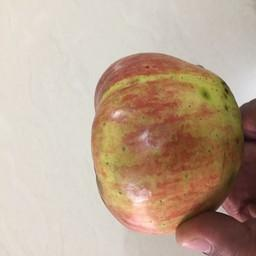Bad_apple: (87, 47, 243, 238)
